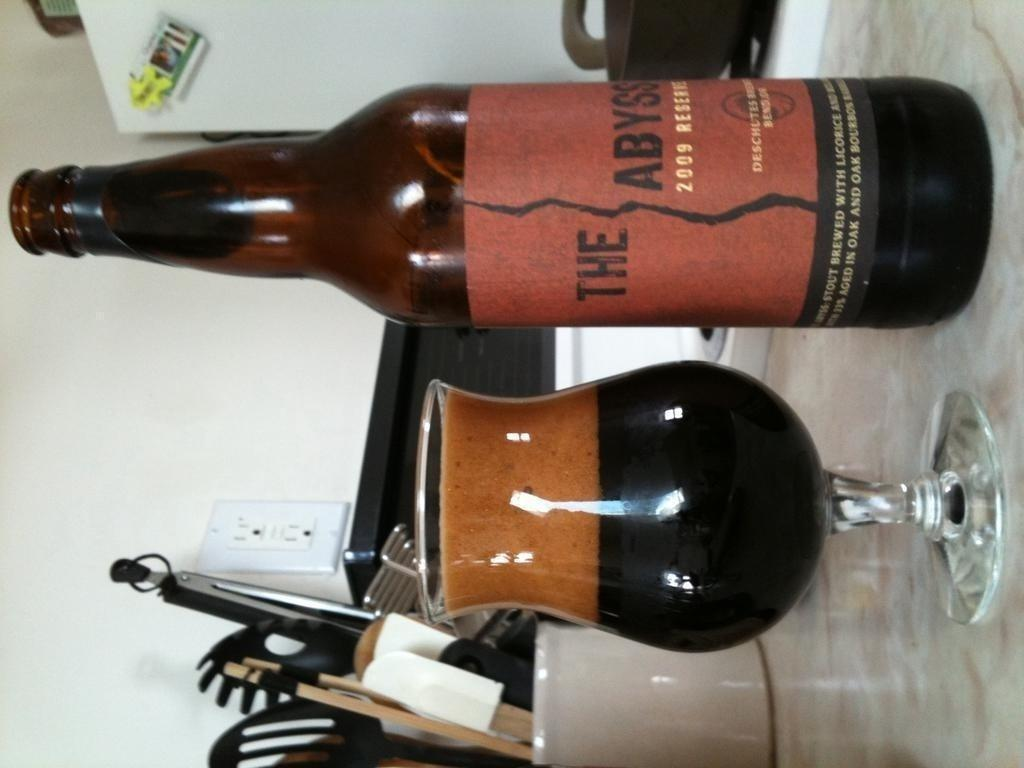bottle-glass: (1, 71, 1001, 339)
glass-wine: (418, 355, 1004, 652)
